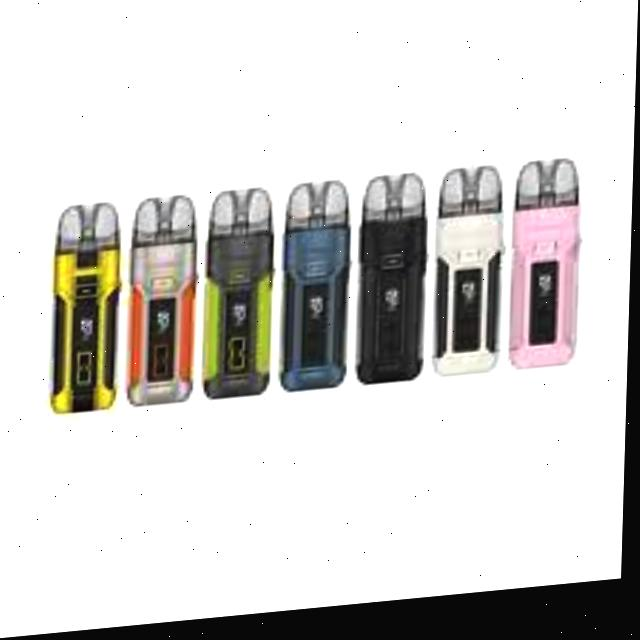vape: (281, 187, 357, 401), (358, 181, 432, 394), (512, 168, 586, 379), (203, 193, 277, 403), (52, 204, 123, 417), (437, 173, 507, 388), (130, 199, 199, 409)
